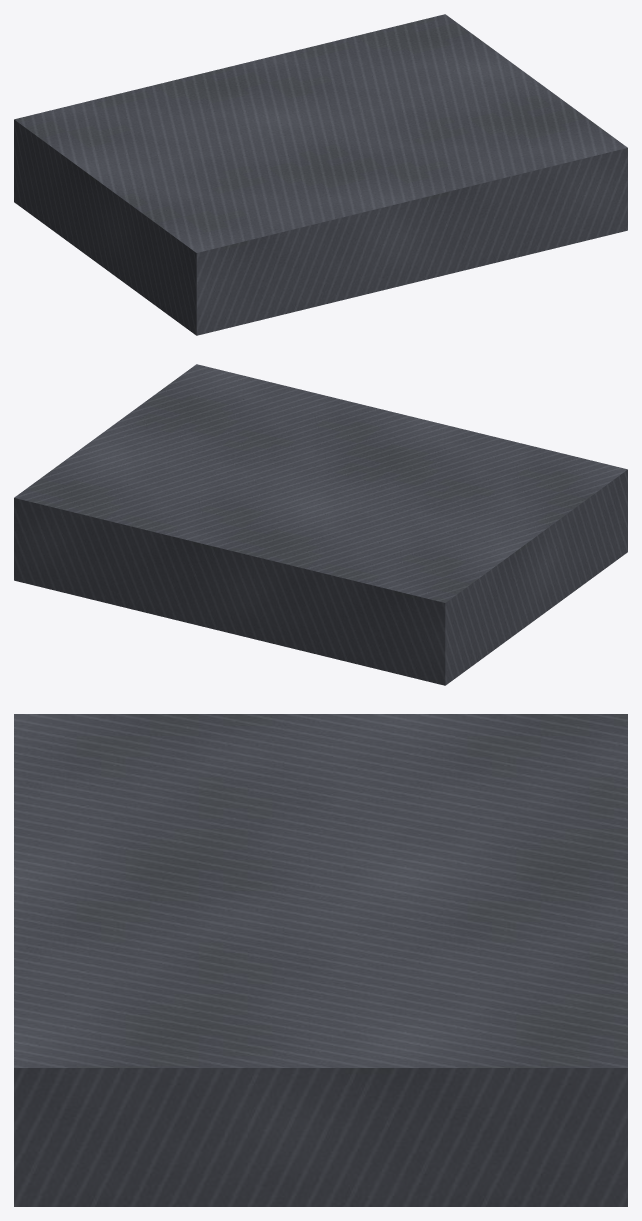
File: binder_v4.glb
3 renders of one model, top to bottom at view 1: azimuth 30°, elevation 25°; view 2: azimuth 150°, elevation 25°; view 3: azimuth 270°, elevation 25°, orthographic. The views are drawn at different scales.
Visible parts, largest first — view 1: Variant_binder_4; view 2: Variant_binder_4; view 3: Variant_binder_4.
Boxes of the visible parts, left/top/right/bottom form: Variant_binder_4: left=14, top=14, right=627, bottom=335; Variant_binder_4: left=14, top=364, right=627, bottom=685; Variant_binder_4: left=14, top=714, right=627, bottom=1206.
Bounding box in the file's own units: 0.3 × 0.055 × 0.22.
Materials: 2 (2 with a texture image).
